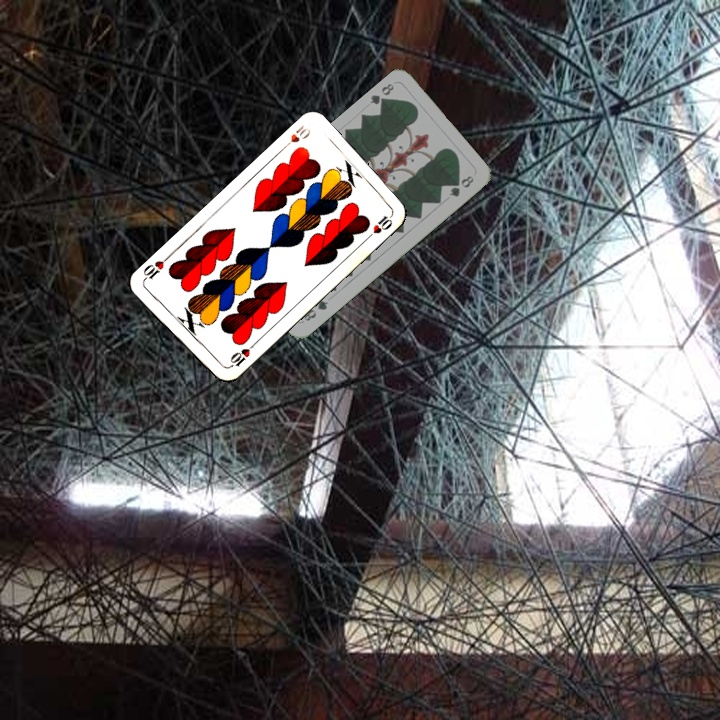G8: (365, 79, 397, 110), (299, 296, 331, 324)
H10: (278, 121, 313, 153), (224, 340, 257, 371)
